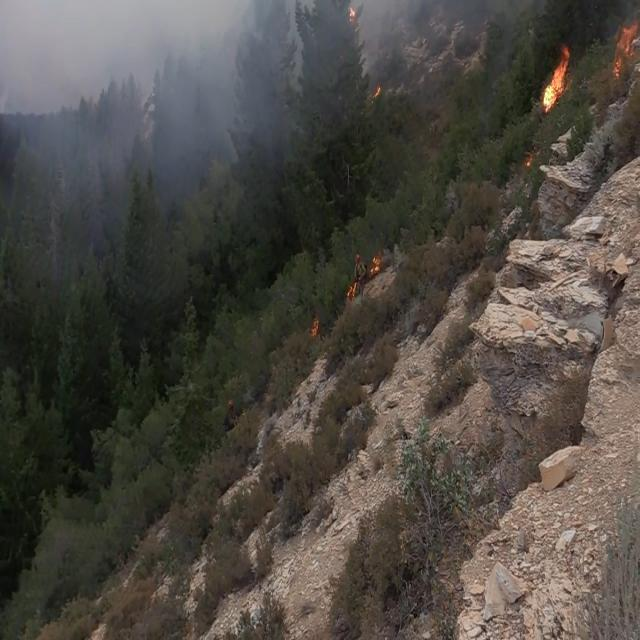Fire: (527, 32, 570, 113)
